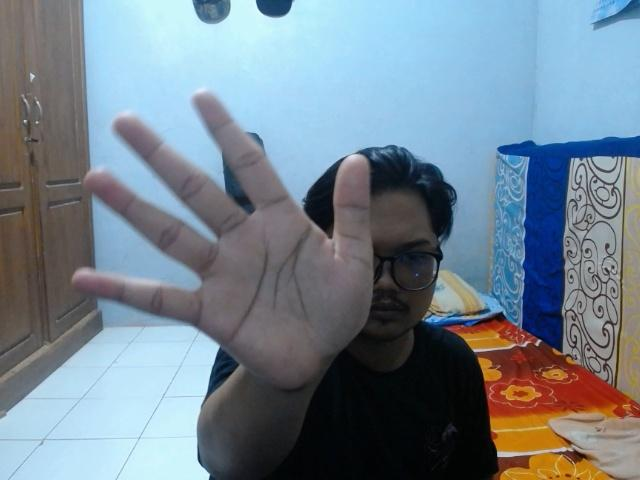Release: (58, 81, 381, 400)
